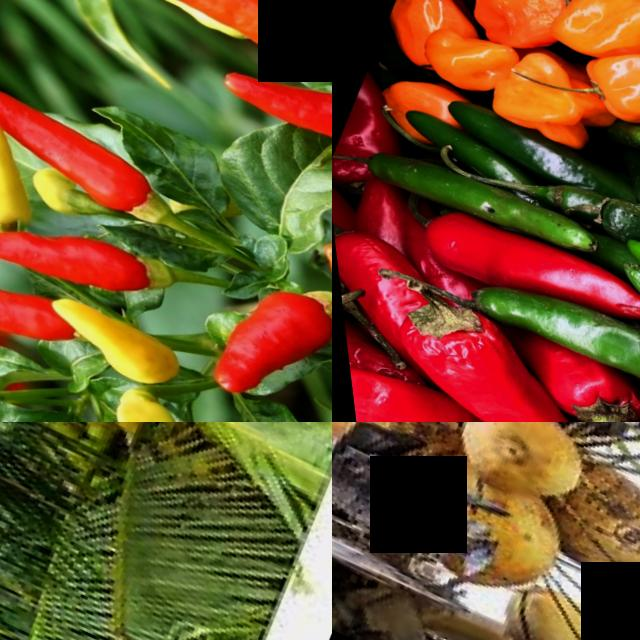chilli: (406, 186, 640, 350), (0, 85, 198, 241), (0, 180, 175, 339), (179, 255, 332, 422), (201, 23, 332, 192), (115, 0, 332, 97), (0, 237, 69, 376), (316, 139, 332, 271)
coconut: (426, 422, 597, 523), (526, 455, 640, 597), (467, 571, 612, 640), (332, 422, 464, 476)
